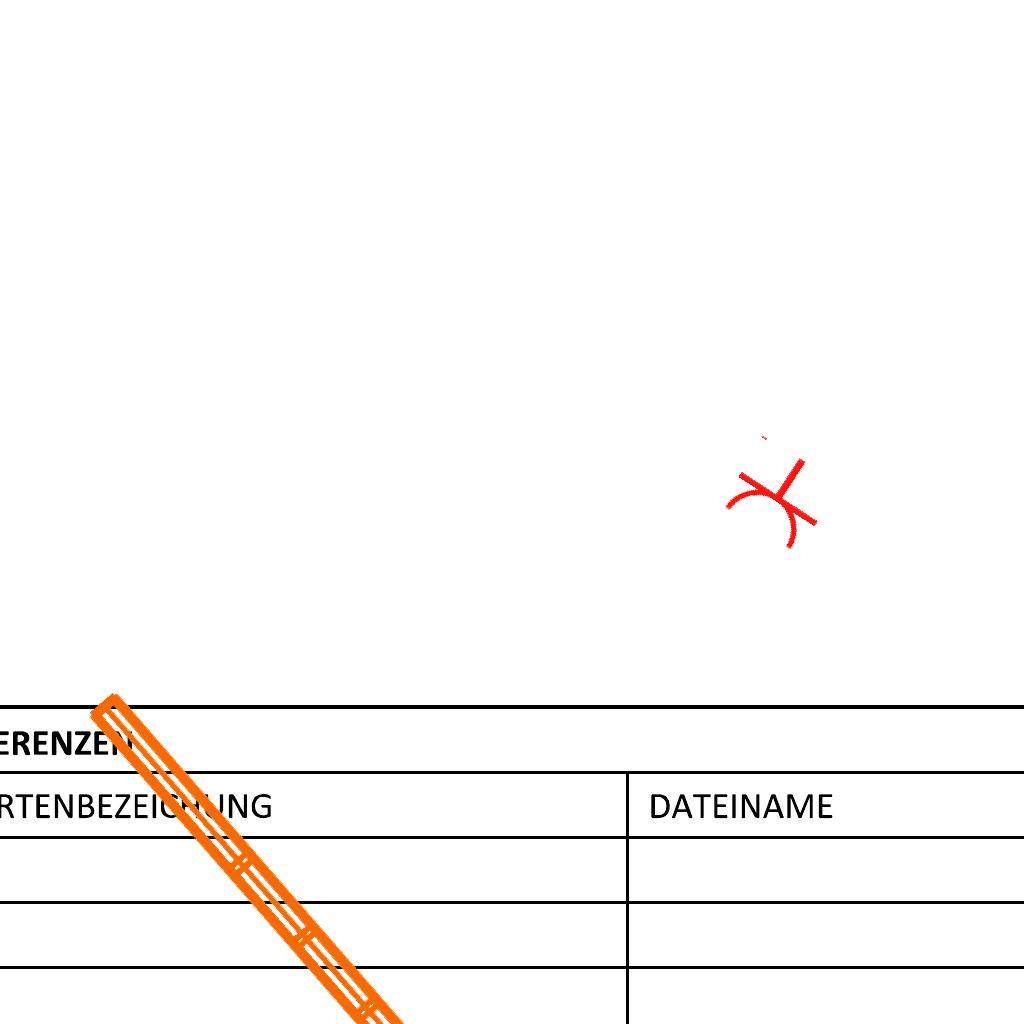Ambulanz_Pendelleuchte_LED: (70, 641, 664, 1024)
Schukosteckdose_einfach: (712, 430, 845, 558)
